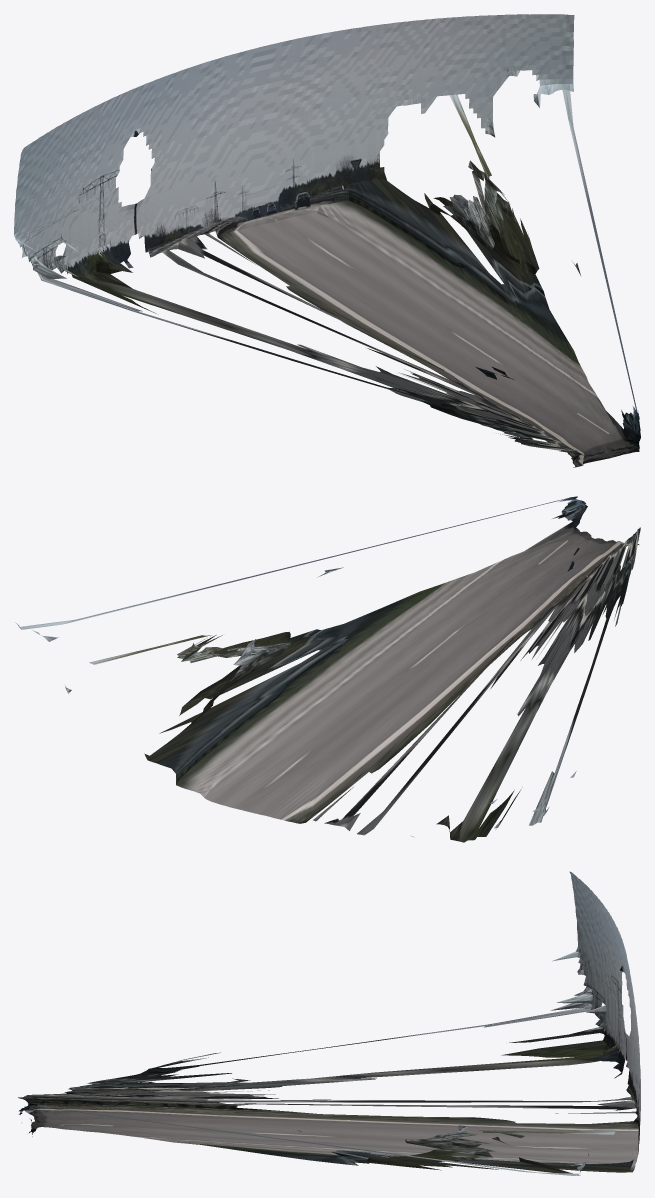
3 views of the same model, one above another, from view 1: azimuth 30°, elevation 25°; view 2: azimuth 150°, elevation 25°; view 3: azimuth 270°, elevation 25° (orthographic). The views are drawn at different scales.
Visible parts, largest first — view 1: defaultobject; view 2: defaultobject; view 3: defaultobject.
Boxes of the visible parts, x1,y1,x2,y2 form: defaultobject: (14, 14, 640, 467); defaultobject: (15, 496, 640, 842); defaultobject: (18, 871, 640, 1175).
Size of the model in its own units: 41.05 by 13.06 by 45.36.
1 material, 1 textured.
